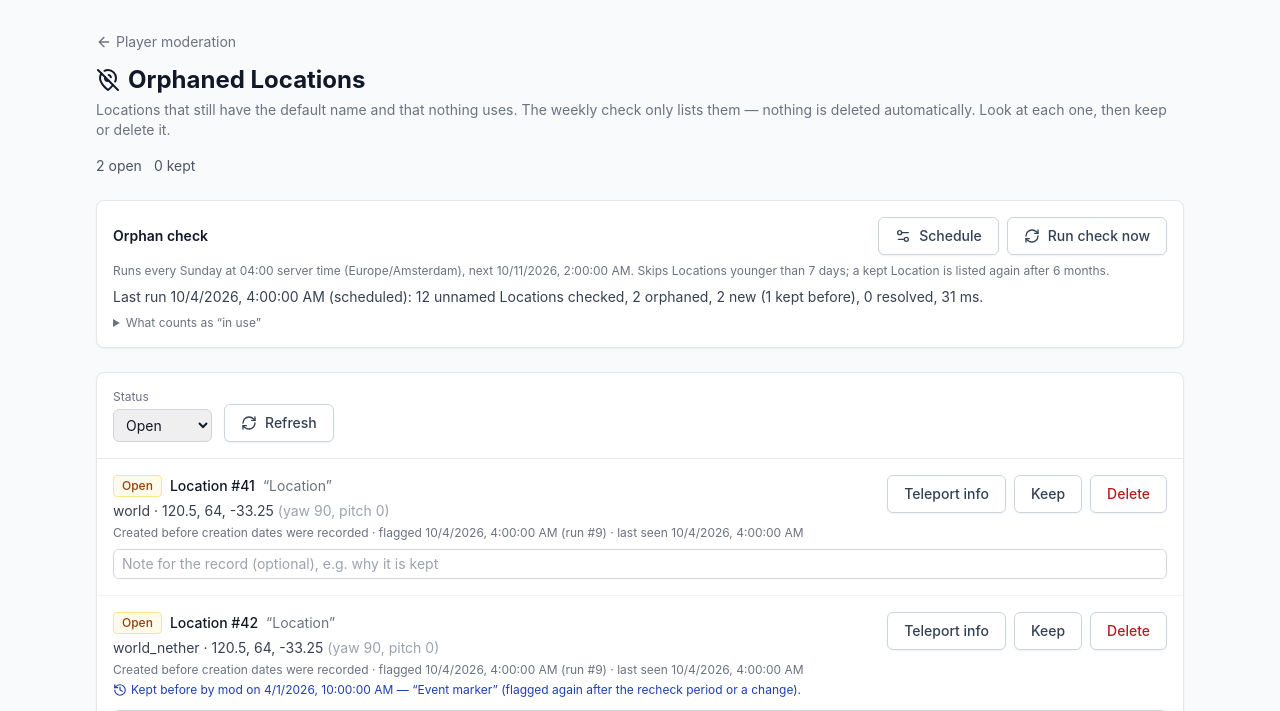
Test case: LocationRetentionPage › closing the confirmation does nothing
This screenshot has width=1280, height=711.
Check: the text "Location #41" is shown, box top-left (170, 476), bottom-right (255, 496)
Step 1. Click the button with aria-label "Keep Location 41" → (1048, 494), box top-left (1014, 475), bottom-right (1082, 513)
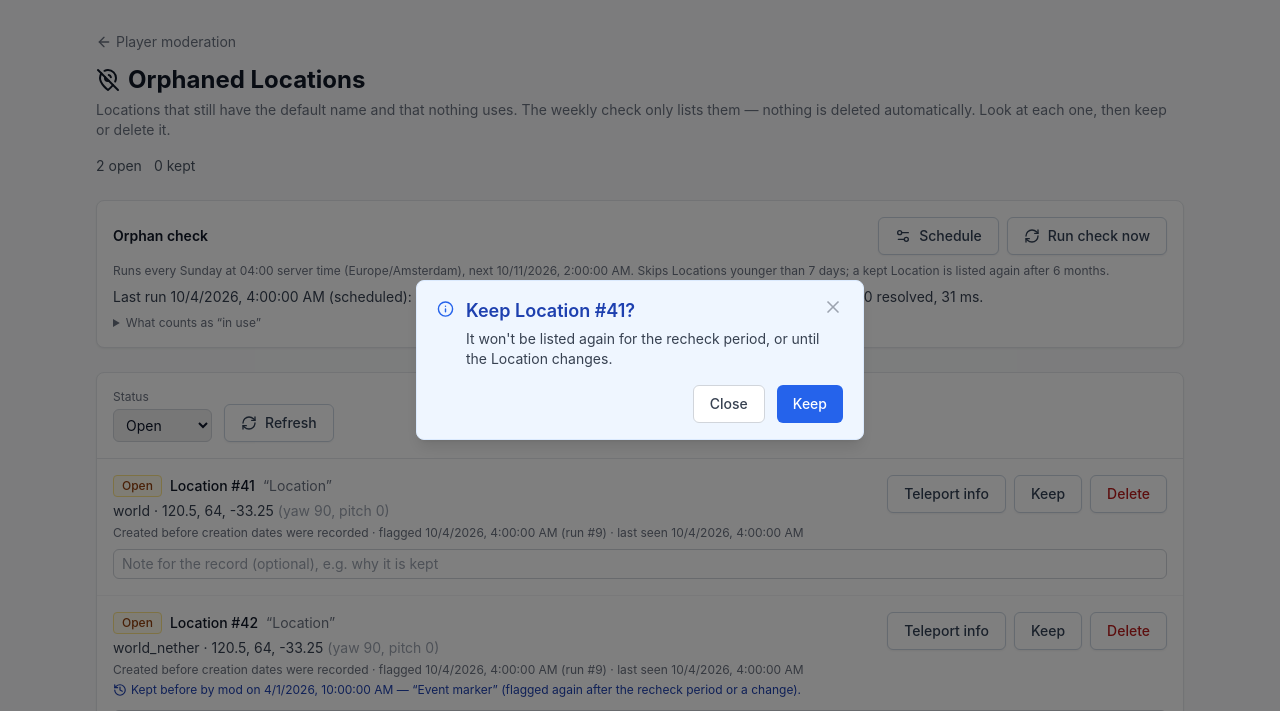
Step 2. Click the button "Close" → (729, 404), box top-left (693, 385), bottom-right (765, 423)
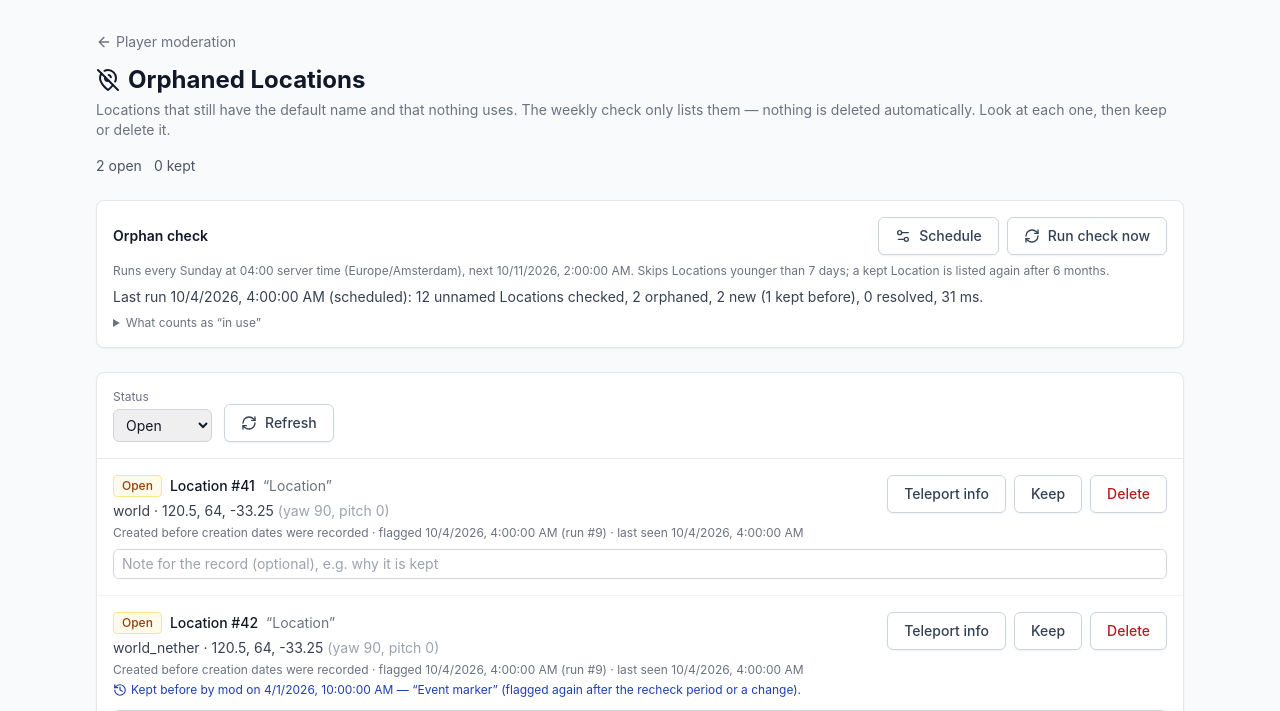
Check: the dialog is gone
